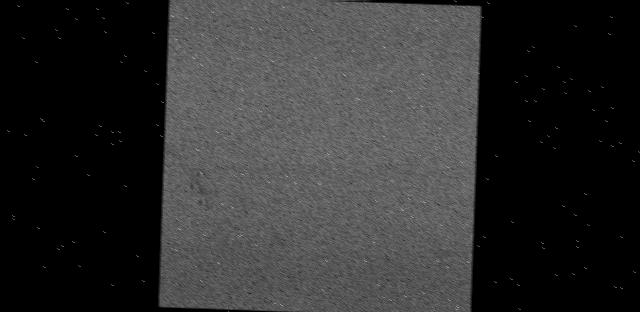inclusion: (188, 161, 218, 212)
water_spot: (164, 138, 186, 172)
